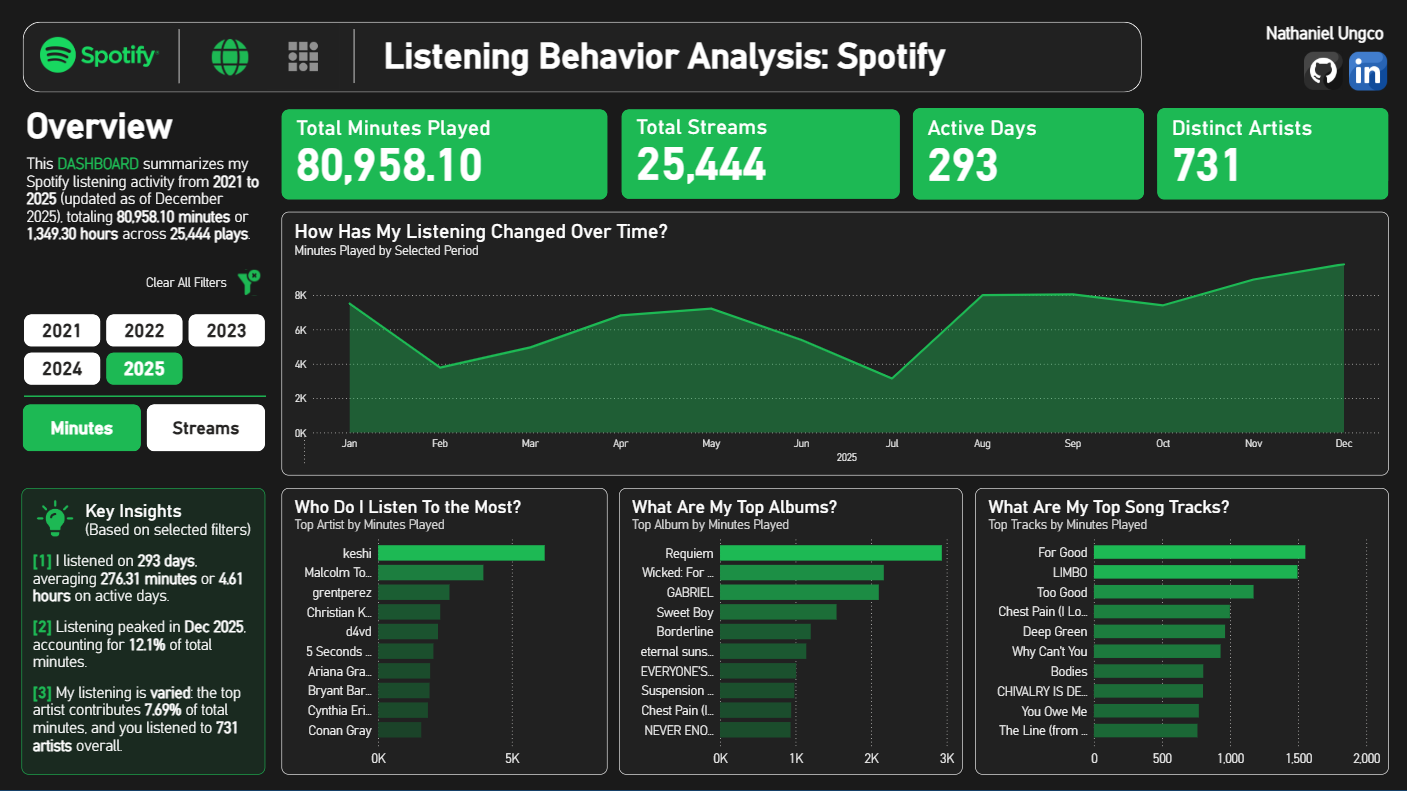

What the dashboard file says about the page in this screenshot:
{"tool":"powerbi","page":{"name":"Overview","canvas":[1920,1080],"ordinal":0},"visuals":[{"type":"shape","box":[0,0,1920.5,1080.4],"z":0},{"type":"cardVisual","fields":{"Data":["Streaming History.Active Days","Streaming History.Distinct Count Artists"]},"box":[1244.4,150.3,648.5,125.1],"z":1000},{"type":"shape","box":[32.4,32.4,1524.1,96.3],"z":2000},{"type":"cardVisual","fields":{"Data":["Sum(Streaming History.Minutes Played)"]},"box":[385.1,150.9,444.7,123.6],"z":3000},{"type":"image","box":[51,29.4,172.5,96.1],"z":4000},{"type":"clusteredBarChart","title":"Who Do I Listen To the Most?","fields":{"Category":["Streaming History.Artist Name"],"Y":["Metric.Metric Value"]},"box":[385.4,667.5,444.4,390.7],"z":5000},{"type":"clusteredBarChart","title":"What Are My Top Albums?","fields":{"Y":["Metric.Metric Value"],"Category":["Streaming History.Album Name"]},"box":[843.8,667.7,467.7,390.7],"z":6000},{"type":"shape","box":[31.2,667.7,332,390.7],"z":7000},{"type":"textbox","box":[111.9,680,410.9,82.5],"z":8000},{"type":"shape","box":[94.5,42,300,73.5],"z":9000},{"type":"textbox","box":[32.7,212.7,330.9,183.6],"z":10000},{"type":"image","box":[40.4,669.5,71.5,78.9],"z":11000},{"type":"textbox","box":[40.4,748.4,313.7,332],"z":12000},{"type":"textbox","box":[100,100,300,51],"z":13000},{"type":"textbox","box":[519.6,33.3,792.2,96.1],"z":14000},{"type":"lineChart","title":"How Has My Listening Changed Over Time?","fields":{"Y":["Metric.Metric Value"],"Category":["Streaming History.Year","Streaming History.Month Name"]},"box":[385.2,291,1507.8,359.5],"z":15000},{"type":"clusteredBarChart","title":"What Are My Top Song Tracks?","fields":{"Category":["Streaming History.Track Name"],"Y":["Metric.Metric Value"]},"box":[1329.8,667.7,563.1,390.7],"z":16000},{"type":"shape","box":[420.6,42.1,126.3,73.2],"z":17000},{"type":"actionButton","box":[364.1,34.6,100.3,90.8],"z":18000},{"type":"actionButton","box":[263.1,35.3,101,89.8],"z":19000},{"type":"textbox","box":[32.3,129.2,334.2,97.5],"z":20000},{"type":"cardVisual","fields":{"Data":["Streaming History.Total Streams"]},"box":[848.4,151.6,379.5,123],"z":21000},{"type":"textbox","box":[1618.6,29.7,272,50],"z":22000},{"type":"actionButton","box":[1776.5,72.9,52.4,51.8],"z":23000},{"type":"actionButton","box":[1839.2,72.9,51.8,52.4],"z":24000},{"type":"advancedSlicerVisual","fields":{"Values":["Streaming History.Year"]},"box":[33.8,431,330,97.5],"z":25000},{"type":"actionButton","box":[183.4,363.2,179.8,49.5],"z":26000},{"type":"advancedSlicerVisual","fields":{"Values":["Metric.Metric"]},"box":[33,553.9,330.2,64.2],"z":27000},{"type":"shape","box":[33.8,493,329.7,97.3],"z":28000}]}

Visuals, with their boxes in screenshot pixels (x1, y1, x2, y2), scaled from the page's 1920x1080 canvas onto the 1407x791 screenshot:
shape: (0, 0, 1406, 790)
cardVisual - Streaming History.Active Days x Streaming History.Distinct Count Artists: (912, 110, 1387, 202)
shape: (24, 24, 1141, 94)
cardVisual - Sum(Streaming History.Minutes Played): (282, 111, 608, 201)
image: (37, 22, 164, 92)
"Who Do I Listen To the Most?" clusteredBarChart: (282, 489, 608, 775)
"What Are My Top Albums?" clusteredBarChart: (618, 489, 961, 775)
shape: (23, 489, 266, 775)
textbox: (82, 498, 383, 558)
shape: (69, 31, 289, 85)
textbox: (24, 156, 266, 290)
image: (30, 490, 82, 548)
textbox: (30, 548, 259, 790)
textbox: (73, 73, 293, 111)
textbox: (381, 24, 961, 95)
"How Has My Listening Changed Over Time?" lineChart: (282, 213, 1387, 476)
"What Are My Top Song Tracks?" clusteredBarChart: (974, 489, 1387, 775)
shape: (308, 31, 401, 84)
actionButton: (267, 25, 340, 92)
actionButton: (193, 26, 267, 92)
textbox: (24, 95, 269, 166)
cardVisual - Streaming History.Total Streams: (622, 111, 900, 201)
textbox: (1186, 22, 1385, 58)
actionButton: (1302, 53, 1340, 91)
actionButton: (1348, 53, 1386, 92)
advancedSlicerVisual - Streaming History.Year: (25, 316, 267, 387)
actionButton: (134, 266, 266, 302)
advancedSlicerVisual - Metric.Metric: (24, 406, 266, 453)
shape: (25, 361, 266, 432)
